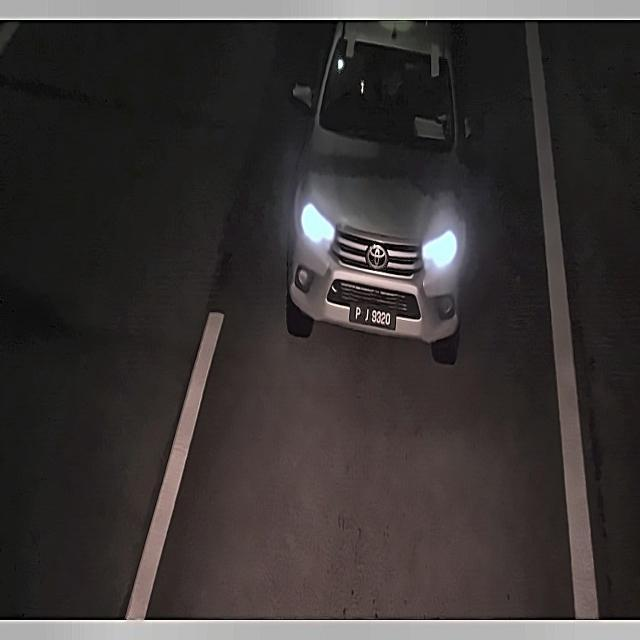car: (346, 295, 398, 336)
